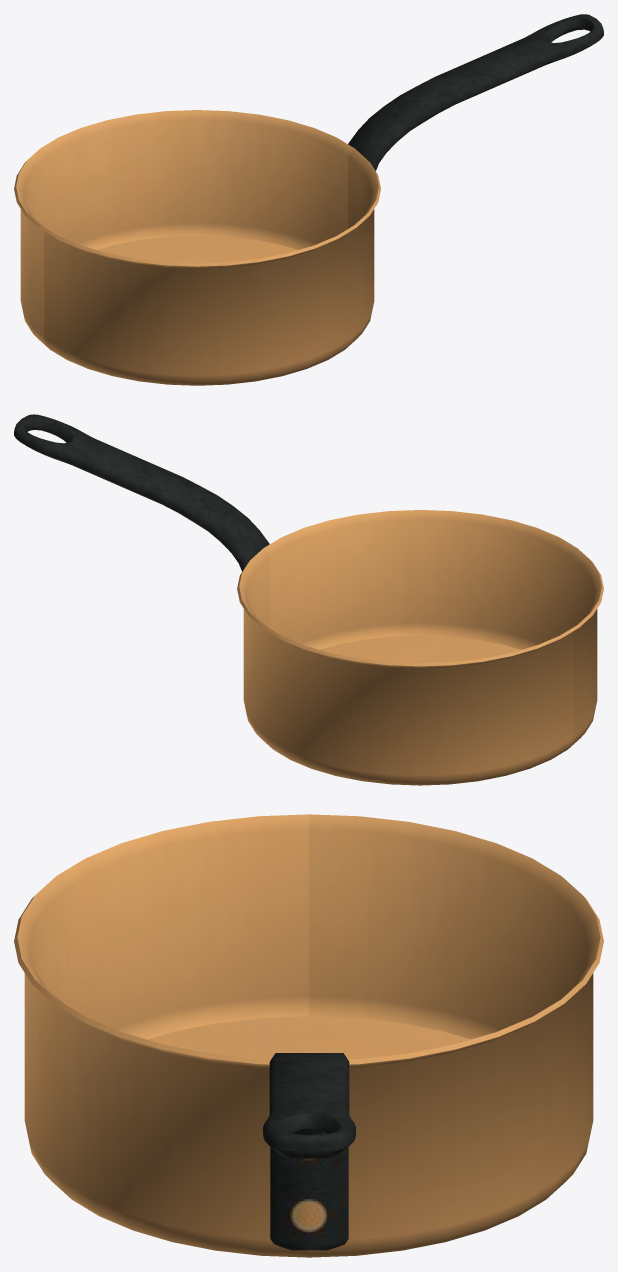
File: panela.glb
3 renders of one model, top to bottom at view 1: azimuth 30°, elevation 25°; view 2: azimuth 150°, elevation 25°; view 3: azimuth 270°, elevation 25°, orthographic. The views are drawn at different scales.
Visible parts, largest first — view 1: Pan3; view 2: Pan3; view 3: Pan3.
Boxes of the visible parts, left/top/right/bottom form: Pan3: left=14, top=14, right=603, bottom=385; Pan3: left=14, top=414, right=603, bottom=785; Pan3: left=14, top=814, right=603, bottom=1257.
Size of the model in its own units: 8.74 by 2.95 by 4.97.
1 material, 1 textured.
